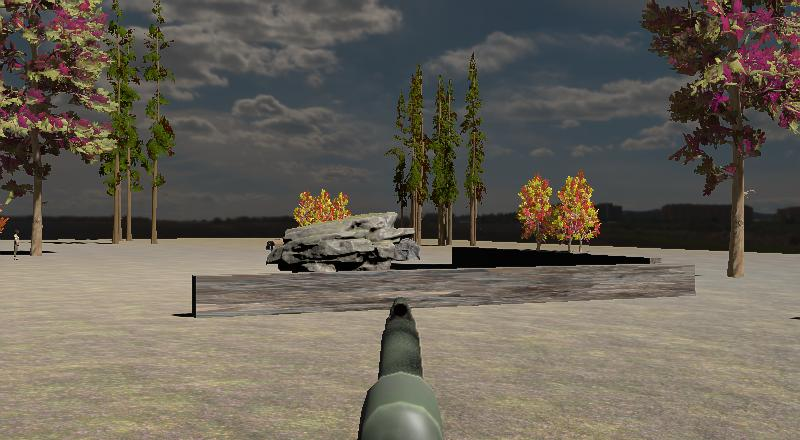Human: (10, 228, 22, 262)
